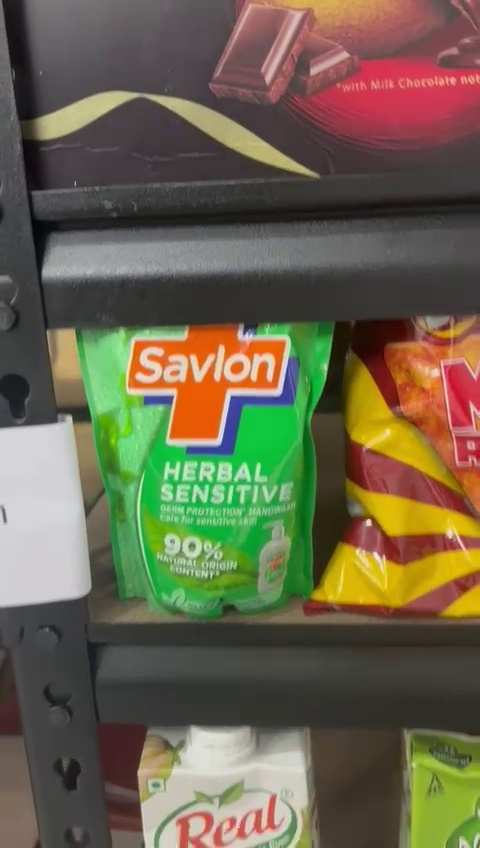Savlon Herbal: (74, 319, 331, 605)
